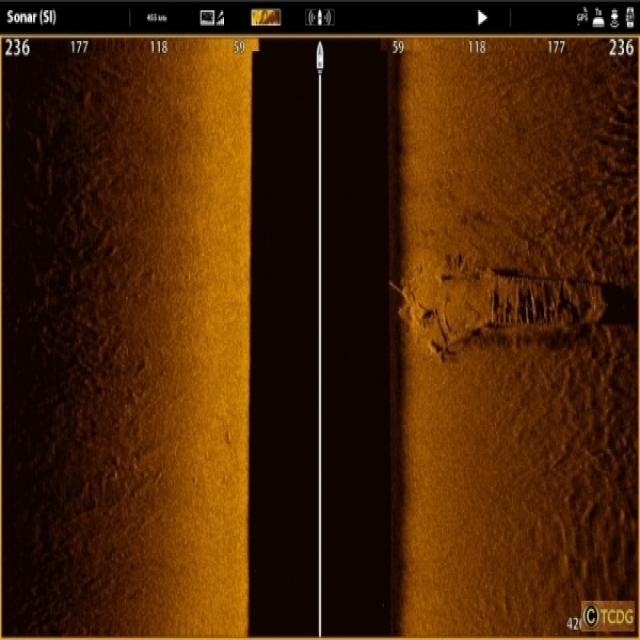ship: (385, 258, 612, 353)
